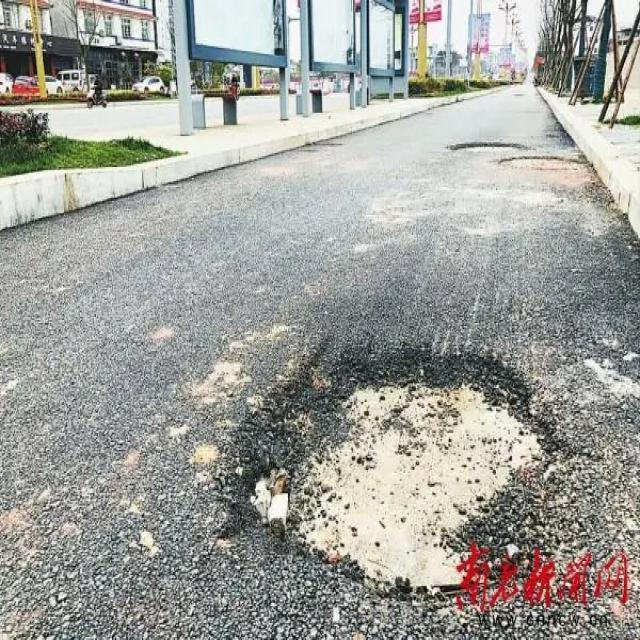Buraco: (209, 327, 572, 602), (494, 154, 589, 173), (444, 140, 534, 155)
